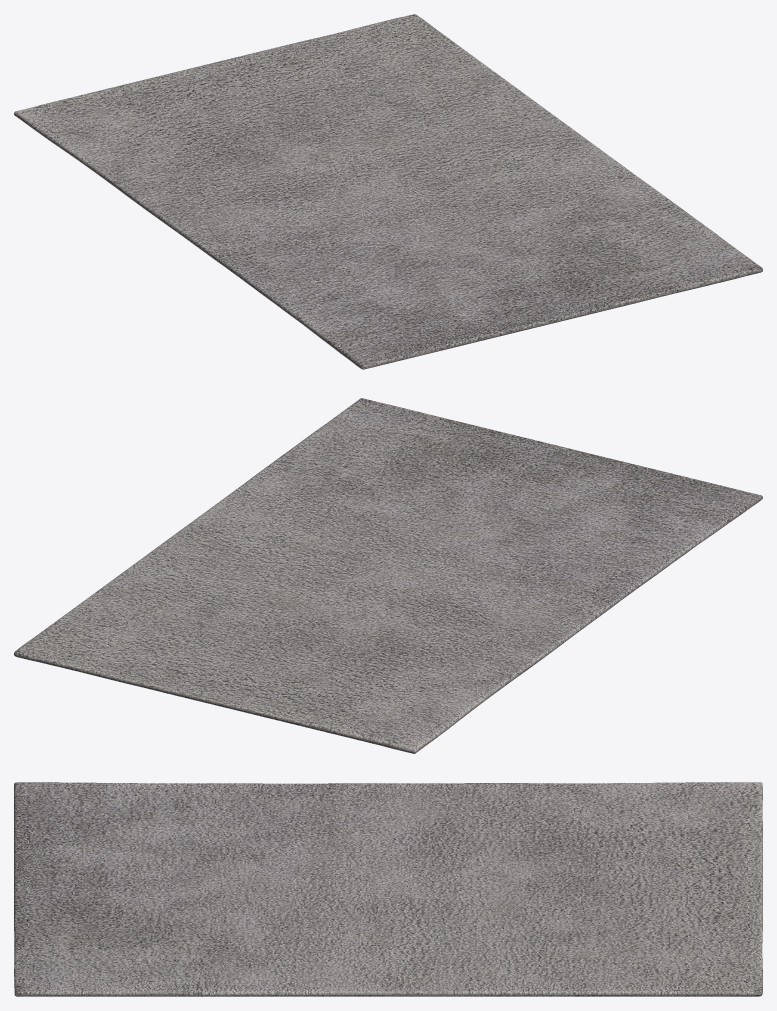
Rendered from arende_dywan_z_dugim_wosiem_60605073.glb.
3 renders of one model, top to bottom at view 1: azimuth 30°, elevation 25°; view 2: azimuth 150°, elevation 25°; view 3: azimuth 270°, elevation 25°, orthographic. The views are drawn at different scales.
Visible parts, largest first — view 1: arende_dywan_z_dugim_wosiem_60605073; view 2: arende_dywan_z_dugim_wosiem_60605073; view 3: arende_dywan_z_dugim_wosiem_60605073.
Part boxes in pixels (x1,y1,x2,y2): arende_dywan_z_dugim_wosiem_60605073: (14, 14, 762, 369); arende_dywan_z_dugim_wosiem_60605073: (14, 398, 762, 753); arende_dywan_z_dugim_wosiem_60605073: (14, 782, 762, 996).
Size of the model in its own units: 1.2 by 0.015 by 1.8.
2 materials, 2 textured.
